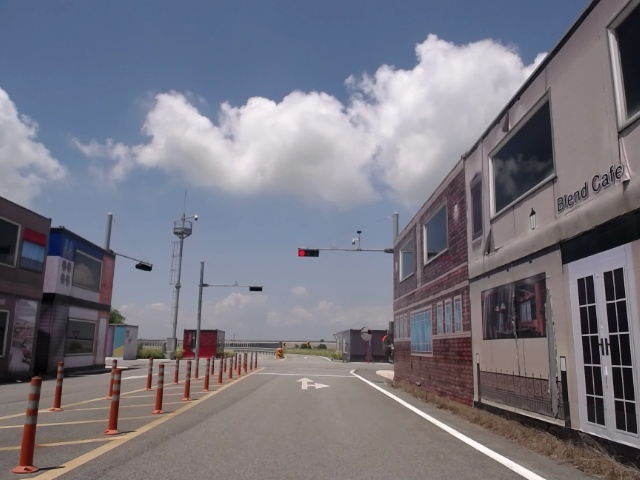red_3: (298, 249, 320, 257)
